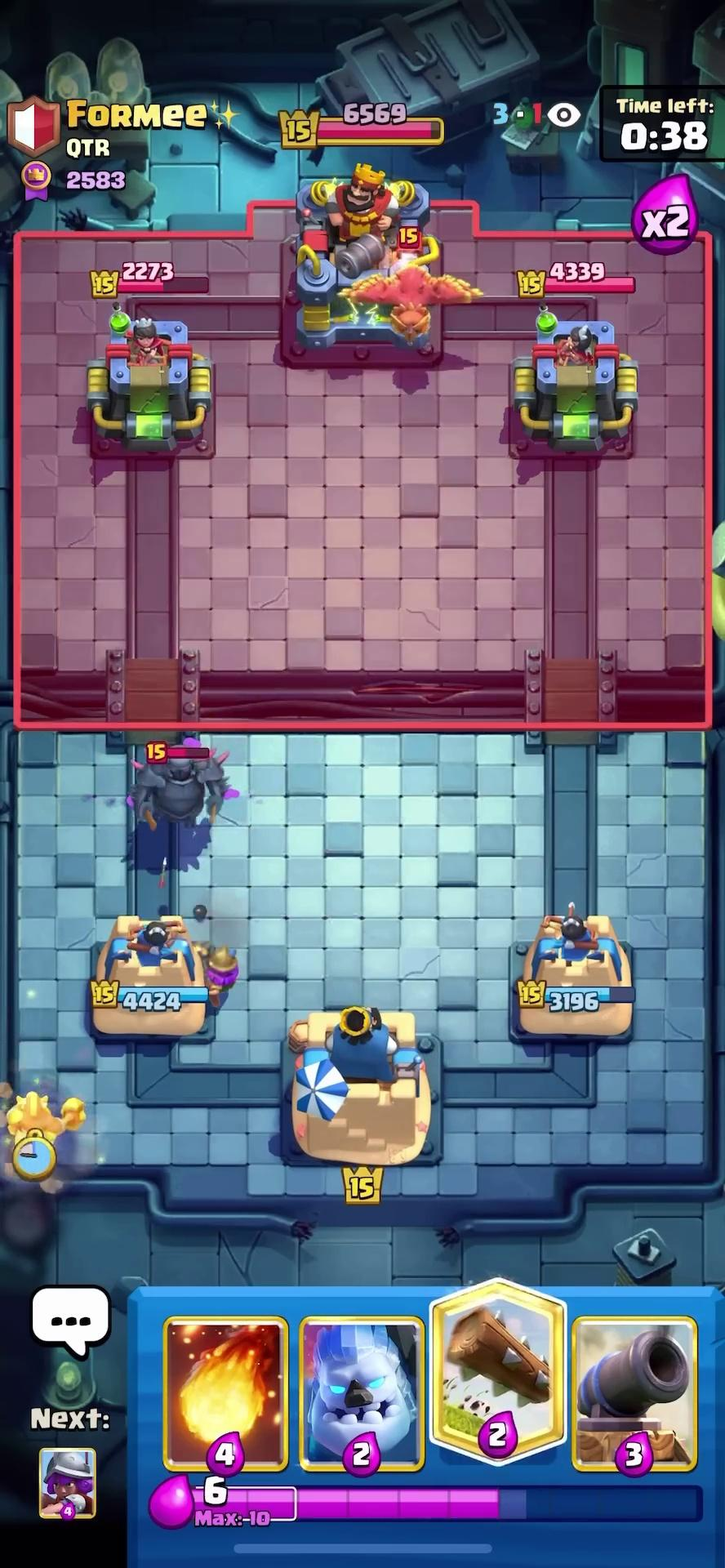hog_rider: (0, 1078, 88, 1168)
musketeer: (198, 931, 263, 1019)
